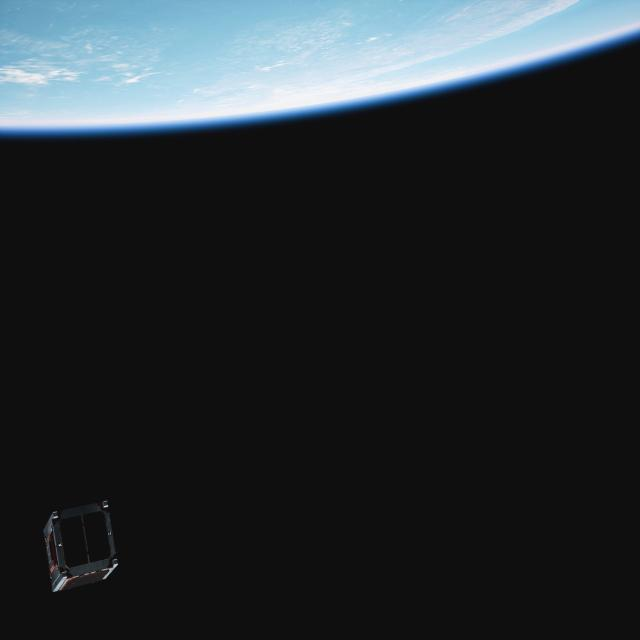medium_debris: (35, 495, 118, 600)
